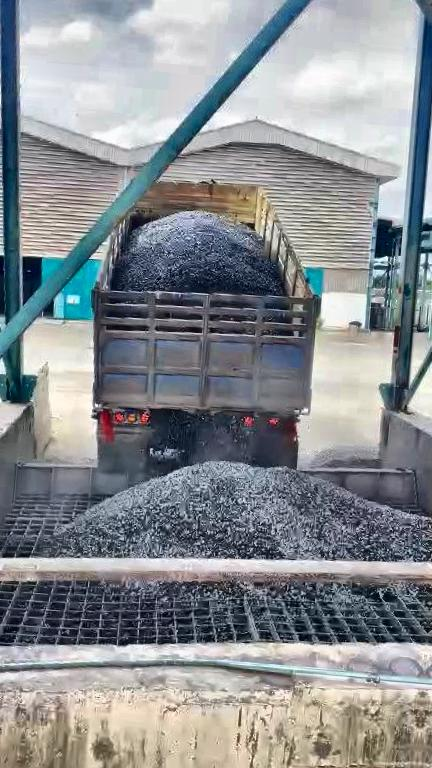gravel: (47, 462, 432, 560), (113, 211, 284, 295), (150, 581, 380, 606), (305, 444, 380, 468)
